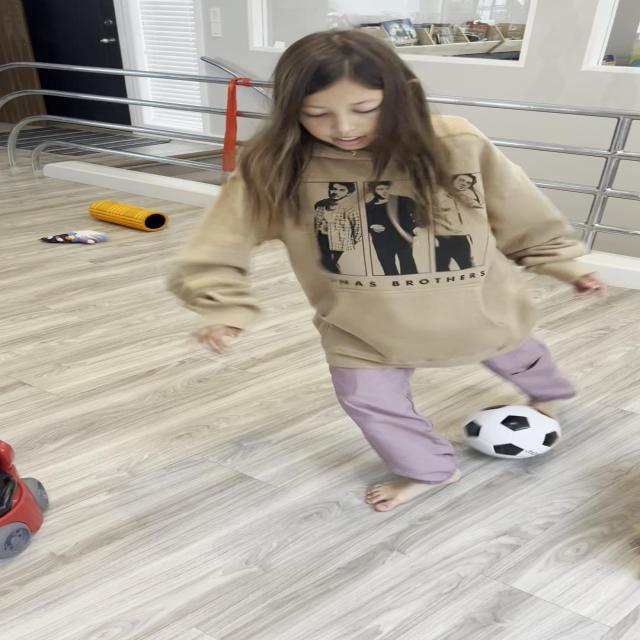Soccer Ball: (462, 405, 560, 458)
